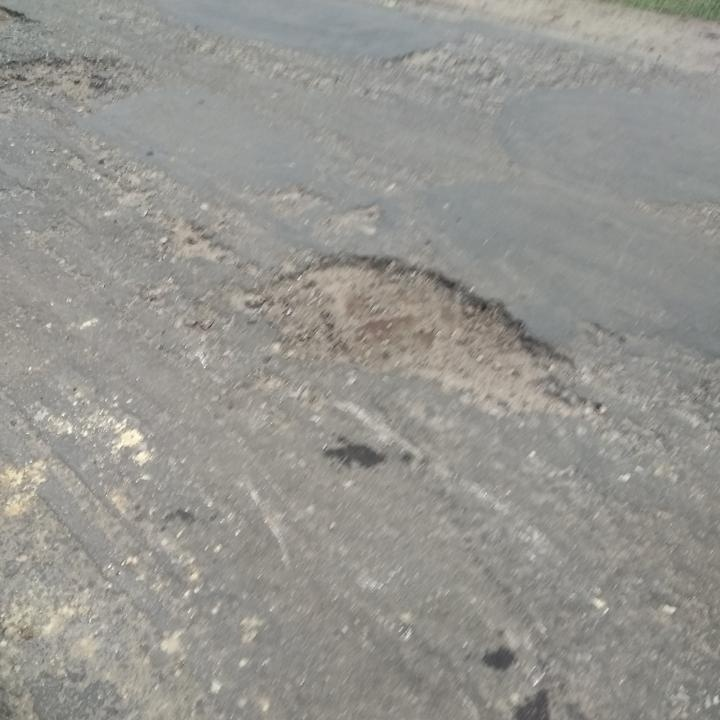pothole: (244, 245, 595, 420), (0, 48, 140, 105), (387, 42, 509, 83)
